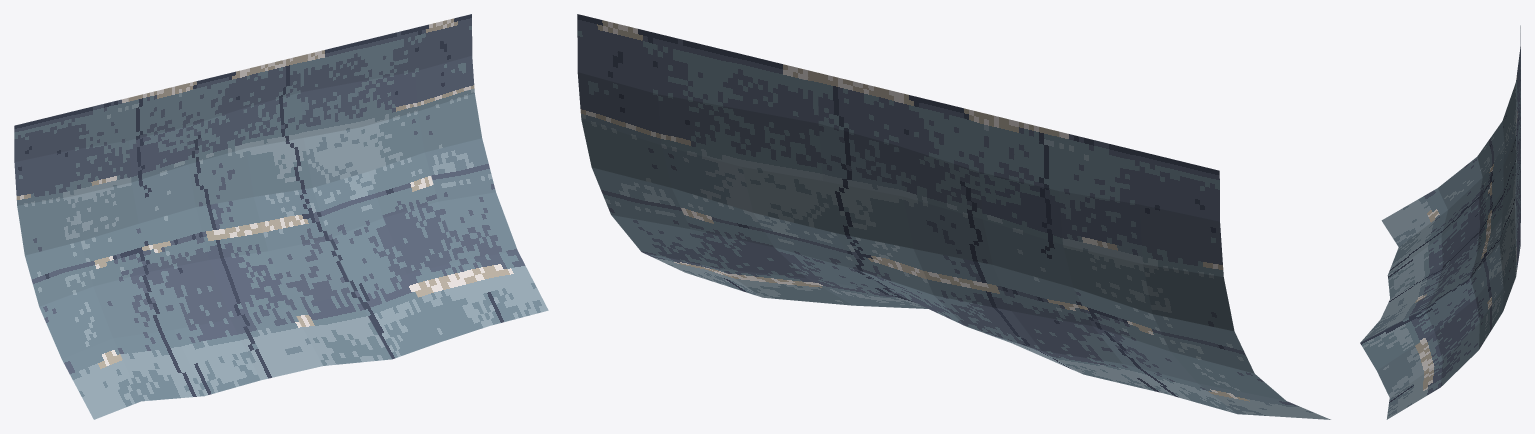
File: TER-07_Escarpe_recto_b.gltf
3 views of the same model, side by side, from view 1: azimuth 30°, elevation 25°; view 2: azimuth 150°, elevation 25°; view 3: azimuth 270°, elevation 25° (orthographic). The views are drawn at different scales.
Visible parts, largest first — view 1: TER-07_Escarpe_recto_b-col; view 2: TER-07_Escarpe_recto_b-col; view 3: TER-07_Escarpe_recto_b-col.
Boxes of the visible parts, x1,y1,x2,y2 form: TER-07_Escarpe_recto_b-col: (14, 14, 548, 419); TER-07_Escarpe_recto_b-col: (577, 14, 1330, 419); TER-07_Escarpe_recto_b-col: (1360, 25, 1520, 419).
Size of the model in its own units: 4 by 2.03 by 1.39.
1 material, 1 textured.
